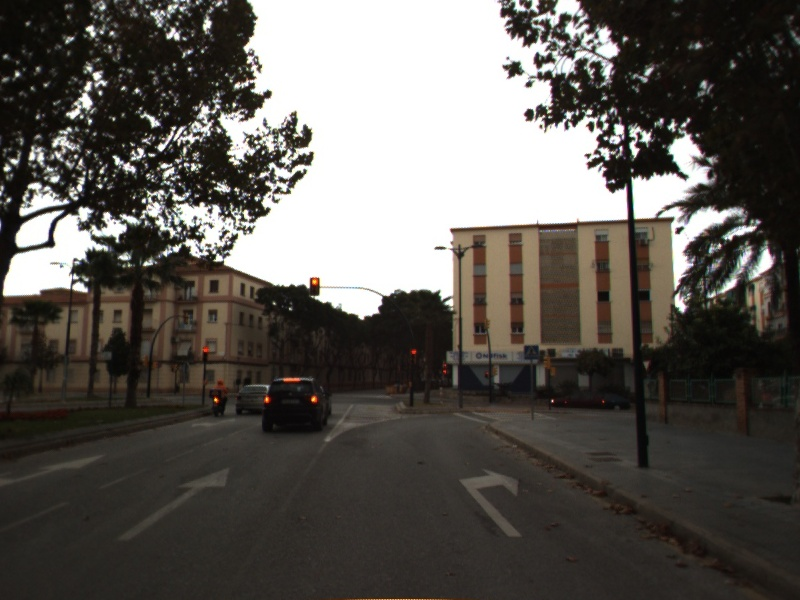RIGHT: (455, 464, 528, 539)
STRAIGHT: (112, 461, 234, 544), (1, 450, 109, 493)
